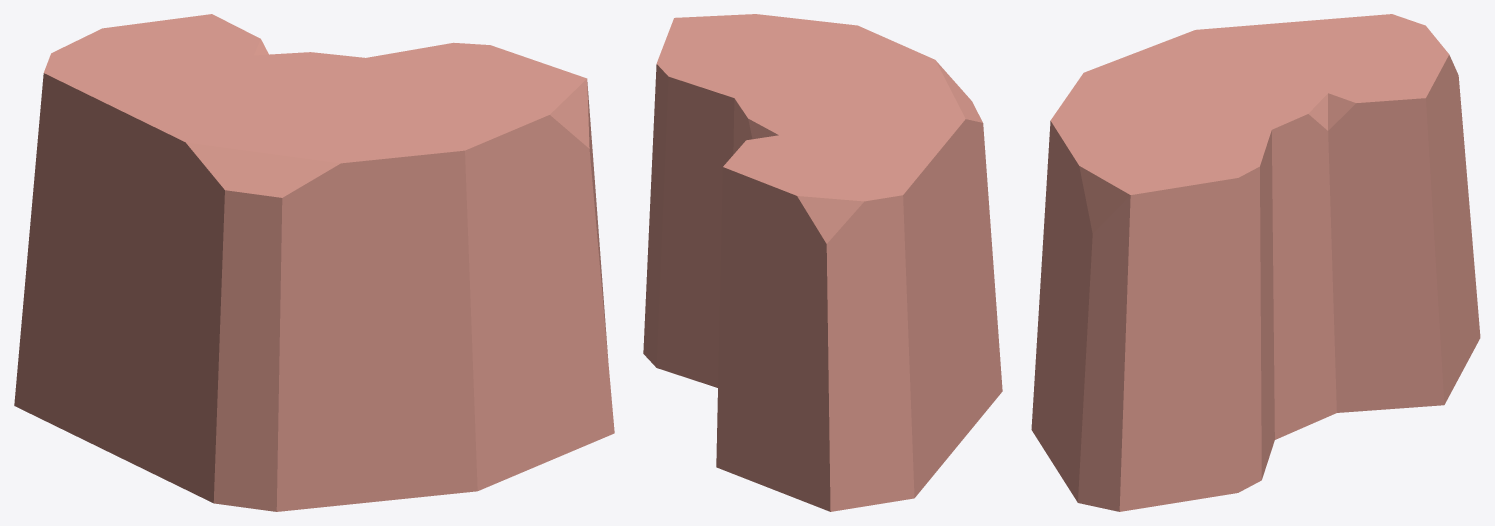
File: Plane_033_Vlad.fbx
3 views of the same model, side by side, from view 1: azimuth 30°, elevation 25°; view 2: azimuth 150°, elevation 25°; view 3: azimuth 270°, elevation 25° (orthographic). The views are drawn at different scales.
Parts seen in each view (by area): view 1: Plane.033; view 2: Plane.033; view 3: Plane.033.
Part boxes in pixels (x1=…): Plane.033: x1=14, y1=14, x2=614, y2=511; Plane.033: x1=643, y1=14, x2=1002, y2=511; Plane.033: x1=1031, y1=14, x2=1480, y2=511.
Bounding box in the file's own units: 277 × 200 × 264.
